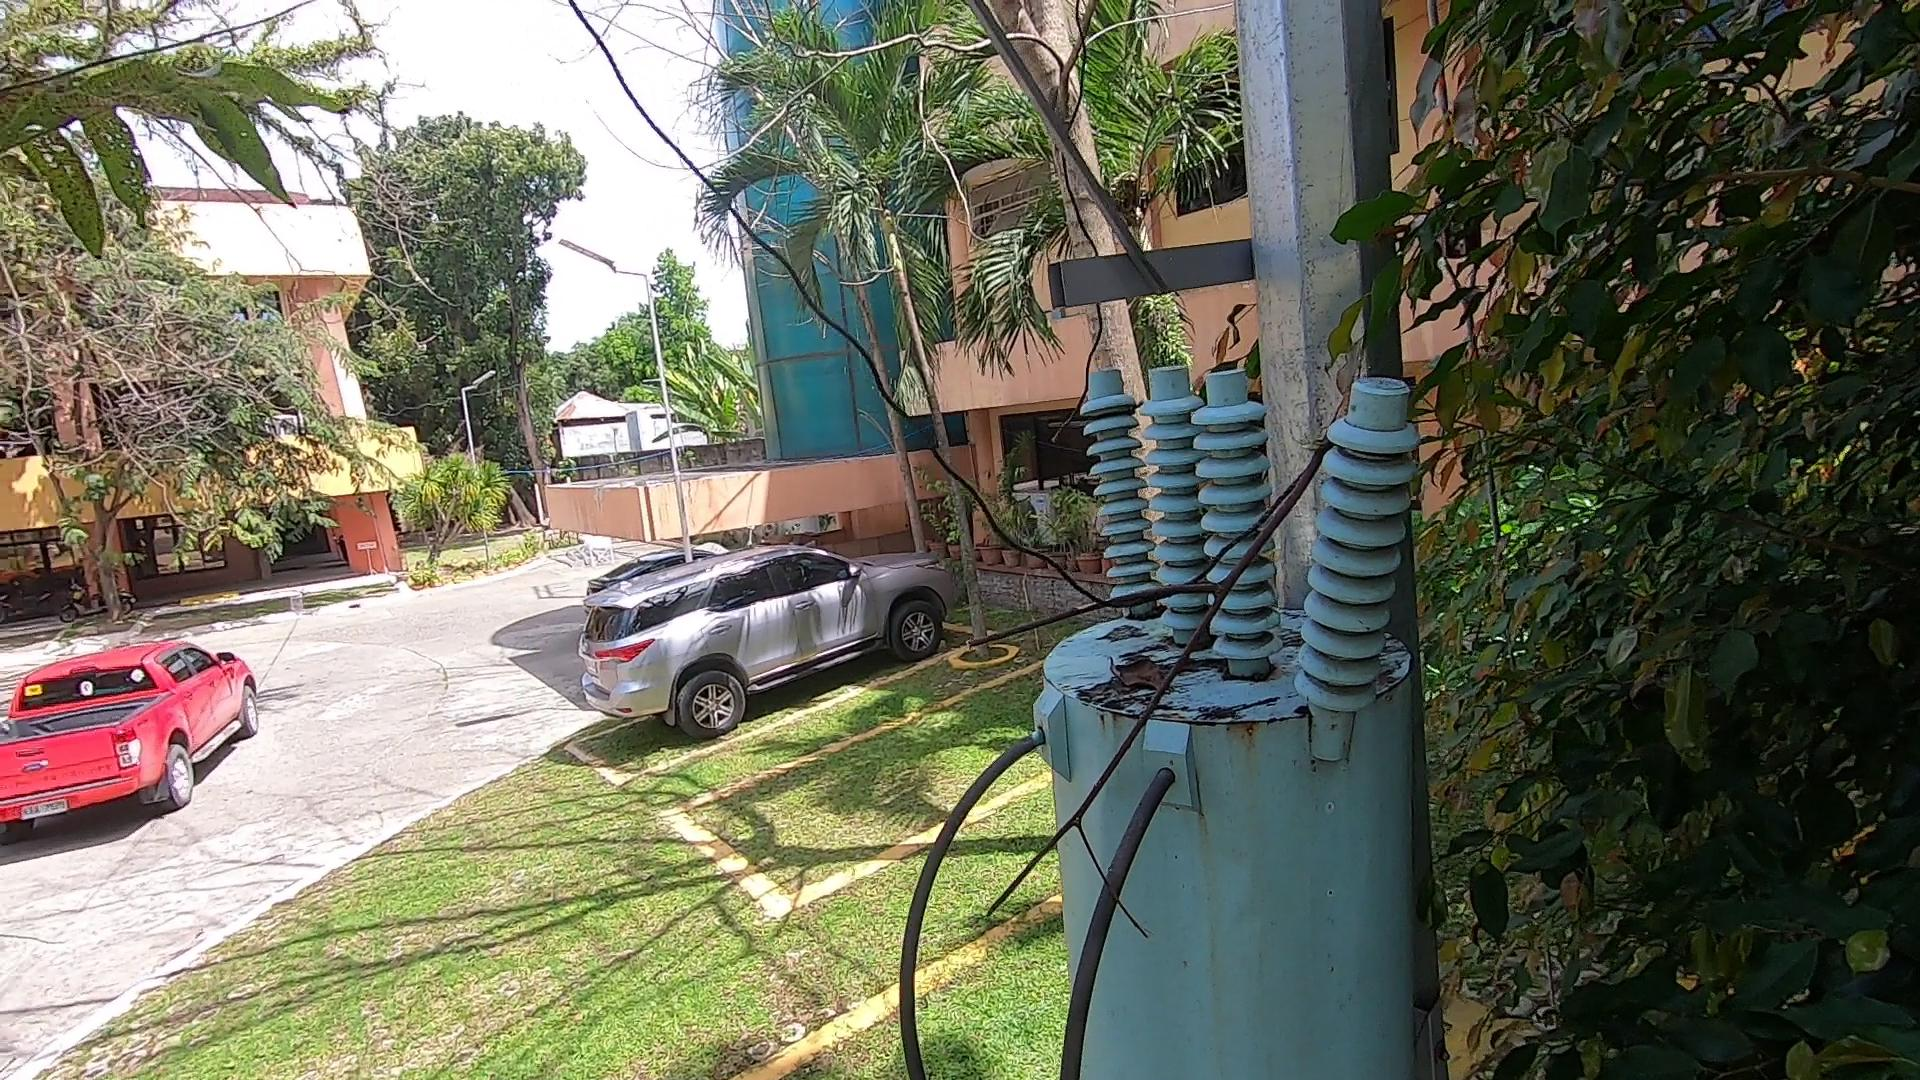leaf: (1113, 647, 1189, 712)
tree branch: (951, 455, 1365, 928)
